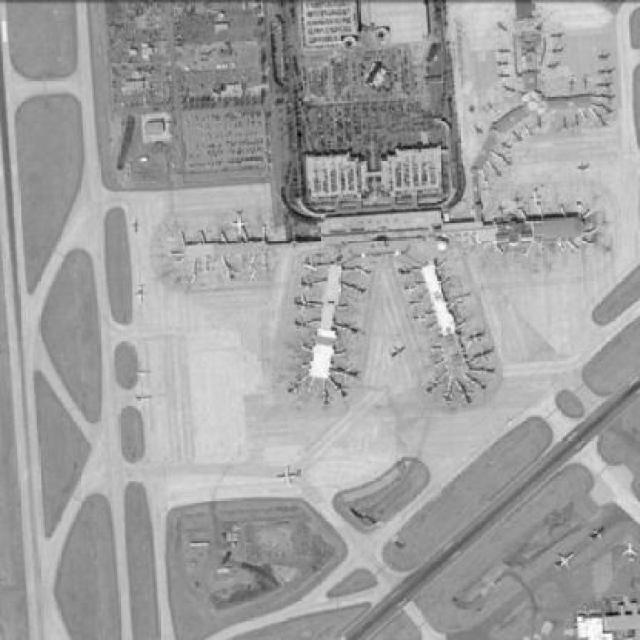airplane: (277, 463, 308, 491), (555, 548, 579, 576), (228, 210, 251, 236), (343, 319, 370, 341), (588, 522, 612, 546), (336, 366, 364, 384), (293, 295, 317, 315), (483, 101, 506, 121), (222, 264, 242, 286), (622, 541, 639, 566), (458, 385, 478, 406), (348, 282, 372, 299), (476, 346, 500, 363), (424, 377, 444, 397), (530, 187, 547, 210), (302, 257, 322, 276), (556, 114, 575, 134), (519, 120, 539, 139), (136, 390, 158, 407), (354, 263, 376, 280), (595, 65, 619, 80), (388, 344, 409, 361), (479, 363, 500, 380), (575, 160, 596, 177), (453, 289, 475, 305), (550, 42, 572, 58), (496, 83, 521, 97), (572, 111, 587, 134), (287, 379, 306, 397), (509, 126, 527, 145), (546, 56, 564, 75), (319, 389, 336, 409), (333, 385, 355, 400), (137, 363, 154, 382), (297, 276, 316, 293), (184, 272, 203, 289), (503, 412, 522, 429), (471, 380, 494, 394), (548, 29, 571, 43), (292, 317, 312, 333), (499, 153, 519, 169), (494, 43, 514, 59), (468, 328, 489, 343), (565, 72, 580, 93), (493, 70, 517, 83), (582, 71, 594, 96), (595, 48, 615, 63), (494, 19, 514, 34), (136, 286, 150, 307), (443, 385, 457, 406), (512, 189, 526, 209), (498, 140, 518, 154), (409, 296, 426, 312), (404, 280, 421, 296), (496, 199, 510, 218), (596, 82, 620, 93), (596, 114, 611, 131), (247, 269, 263, 284), (492, 164, 507, 180), (130, 218, 144, 235), (412, 312, 429, 326), (497, 58, 514, 72), (602, 101, 616, 115), (482, 180, 494, 194)
